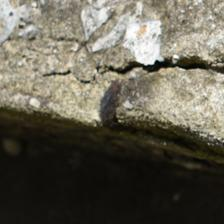Crack: (23, 25, 195, 63)
